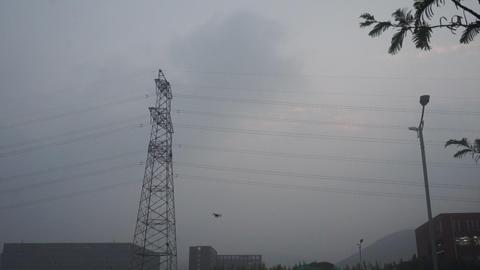UAV: (212, 213, 222, 219)
